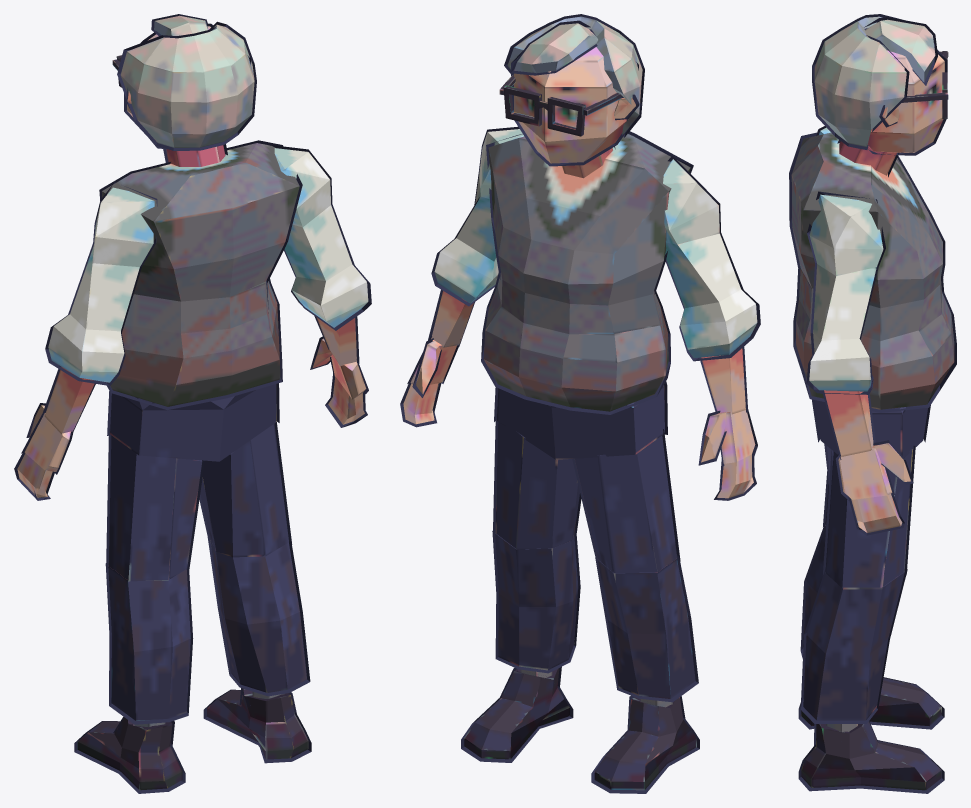
The model's file is rev_char_2.fbx.
3 renders of one model, left to right at view 1: azimuth 30°, elevation 25°; view 2: azimuth 150°, elevation 25°; view 3: azimuth 270°, elevation 25°, orthographic.
Visible parts, largest first — view 1: torso, hair, calf2, shoudler2, thigh2, calf1, pelvis, shoudler1, thigh1, shoe2, shoe1, wrist2 (+16 smaller); view 2: torso, shoudler2, thigh2, calf2, calf1, thigh1, pelvis, face, shoe2, shoe1, shoudler1, hair (+18 smaller); view 3: torso, shoudler1, calf1, hair, shoe1, thigh1, face, pelvis, wrist1, shoe2, bald, palm 1 (+16 smaller).
Boxes of the visible parts, left/top/right/bottom form: torso: left=101, top=143, right=299, bottom=406; hair: left=120, top=24, right=254, bottom=147; calf2: left=108, top=566, right=190, bottom=720; shoudler2: left=48, top=187, right=154, bottom=382; thigh2: left=108, top=435, right=202, bottom=581; calf1: left=210, top=540, right=306, bottom=692; pelvis: left=110, top=384, right=276, bottom=461; shoudler1: left=274, top=148, right=368, bottom=327; thigh1: left=200, top=423, right=288, bottom=557; shoe2: left=77, top=717, right=182, bottom=790; shoe1: left=207, top=688, right=308, bottom=759; wrist2: left=44, top=367, right=94, bottom=434; torso: left=483, top=134, right=690, bottom=411; shoudler2: left=663, top=159, right=757, bottom=357; thigh2: left=574, top=435, right=677, bottom=572; calf2: left=598, top=558, right=695, bottom=698; calf1: left=495, top=533, right=578, bottom=670; thigh1: left=495, top=422, right=579, bottom=549; pelvis: left=497, top=385, right=664, bottom=459; face: left=514, top=47, right=626, bottom=163; shoe2: left=594, top=697, right=696, bottom=790; shoe1: left=464, top=668, right=569, bottom=759; shoudler1: left=434, top=129, right=523, bottom=303; hair: left=507, top=16, right=642, bottom=134; torso: left=791, top=132, right=954, bottom=409; shoudler1: left=809, top=194, right=883, bottom=391; calf1: left=803, top=572, right=904, bottom=720; hair: left=814, top=16, right=906, bottom=146; shoe1: left=801, top=722, right=941, bottom=790; thigh1: left=825, top=446, right=912, bottom=588; face: left=867, top=50, right=944, bottom=152; pelvis: left=814, top=400, right=927, bottom=457; wrist1: left=824, top=390, right=873, bottom=456; shoe2: left=801, top=678, right=941, bottom=726; bald: left=865, top=19, right=935, bottom=82; palm 1: left=838, top=445, right=892, bottom=499.
Size of the model in its own units: 227 by 473 by 98.47.
2 materials, 2 textured.
